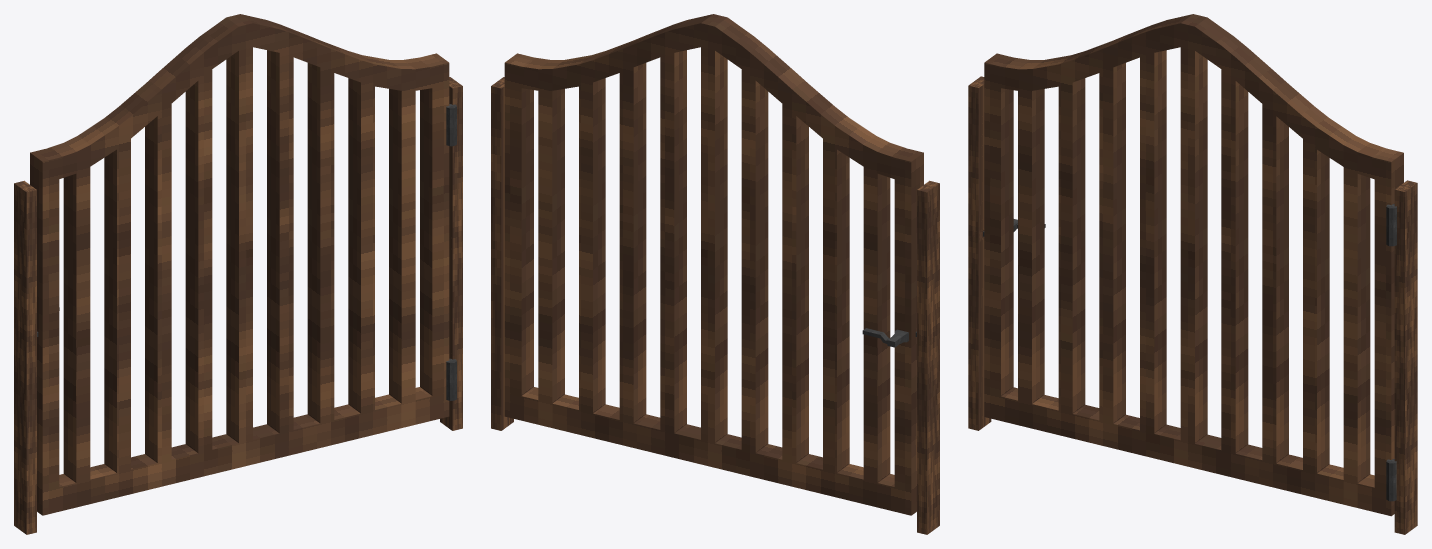
Rendered from gate.glb.
The picture shows the model from 3 angles, left to right: view 1: azimuth 30°, elevation 25°; view 2: azimuth 150°, elevation 25°; view 3: azimuth 330°, elevation 25°; orthographic projection.
Parts seen in each view (by area): view 1: Gate, Frame; view 2: Gate, Frame; view 3: Gate, Frame.
Boxes of the visible parts, x1,y1,x2,y2 form: Gate: (30,14,449,515); Frame: (14,77,462,534); Gate: (504,14,923,515); Frame: (491,77,939,534); Gate: (984,14,1403,516); Frame: (968,76,1417,534).
Bounding box in the file's own units: 2 × 2 × 0.2232.
Materials: 2 (2 with a texture image).
